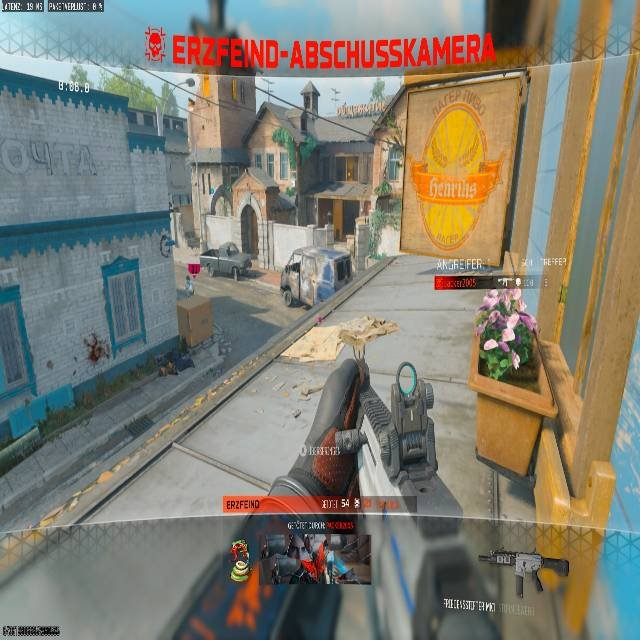head: (512, 297, 527, 313)
player: (478, 295, 536, 380), (159, 233, 173, 257), (185, 273, 193, 294)
